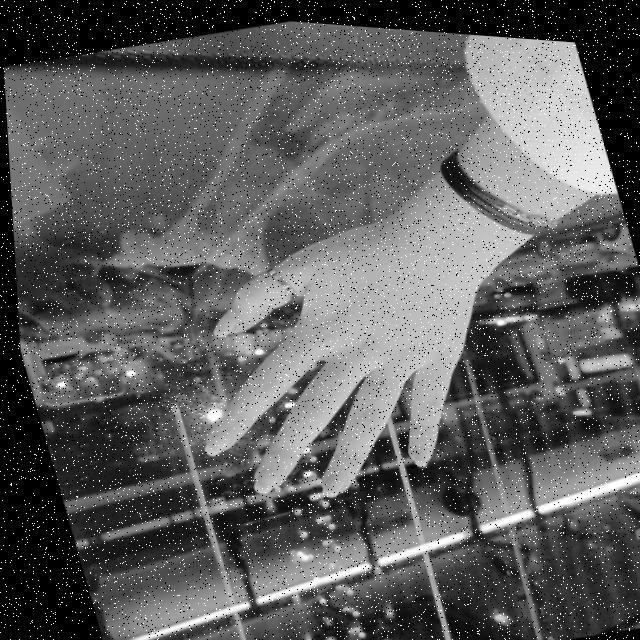no-gloves: (142, 183, 524, 530)
